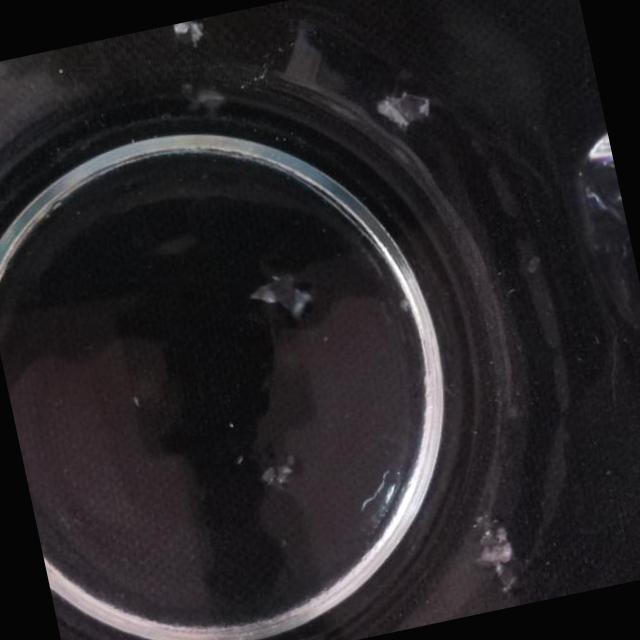fiber: (244, 256, 326, 335), (461, 504, 529, 590), (365, 72, 442, 145), (250, 440, 312, 510)
